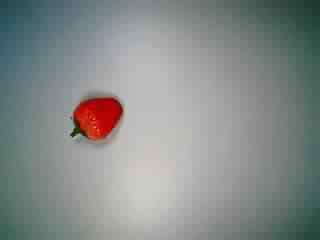strawberry: (62, 90, 130, 154)
